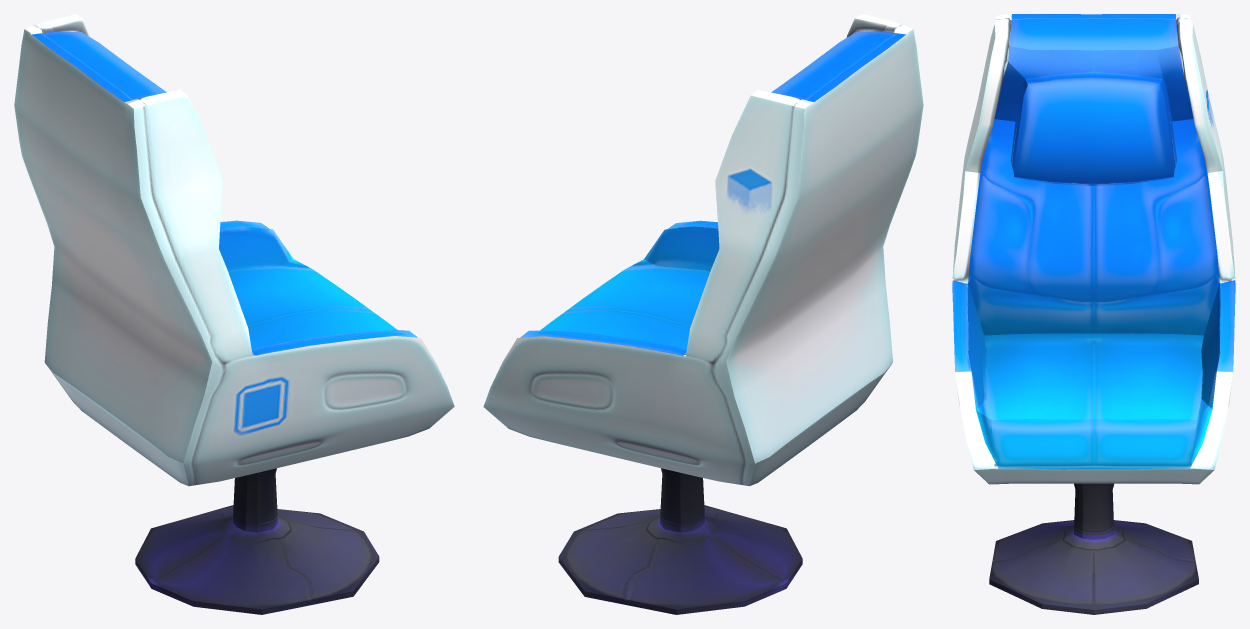
Rendered from obj_chair.gltf.
3 views of the same model, side by side, from view 1: azimuth 30°, elevation 25°; view 2: azimuth 150°, elevation 25°; view 3: azimuth 270°, elevation 25° (orthographic). The views are drawn at different scales.
Parts seen in each view (by area): view 1: obj_chair; view 2: obj_chair; view 3: obj_chair.
Boxes of the visible parts, x1,y1,x2,y2 form: obj_chair: [14, 14, 454, 614]; obj_chair: [483, 14, 923, 614]; obj_chair: [952, 14, 1235, 614].
Size of what is drawn, in the model's own units: 1.16 by 1.91 by 1.03.
1 material, 1 textured.
